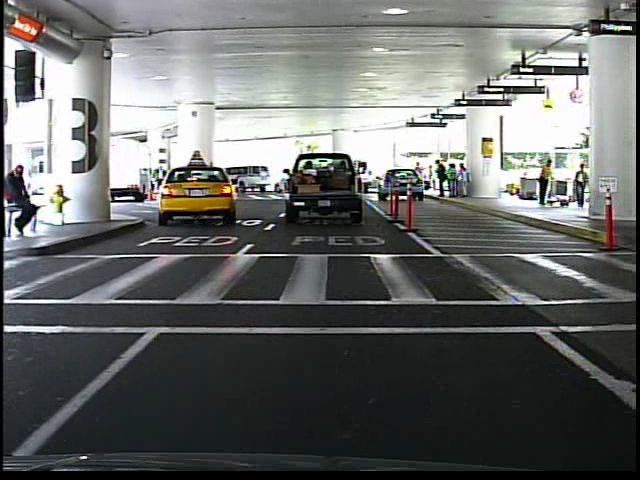person: (6, 161, 43, 236), (533, 154, 556, 209), (573, 160, 590, 212), (413, 161, 426, 193)
